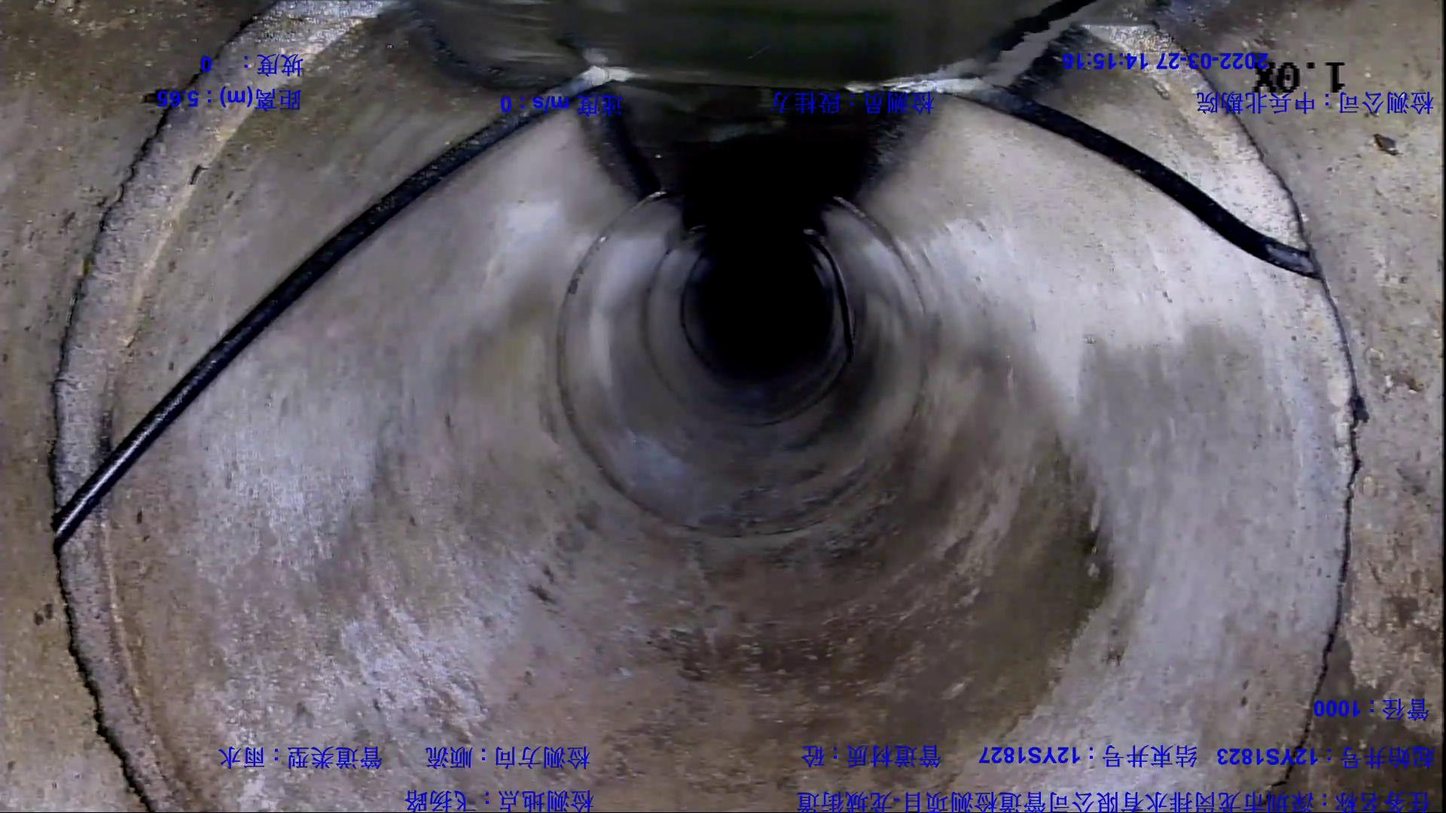YWCR: (53, 65, 809, 547), (811, 72, 1321, 279)
